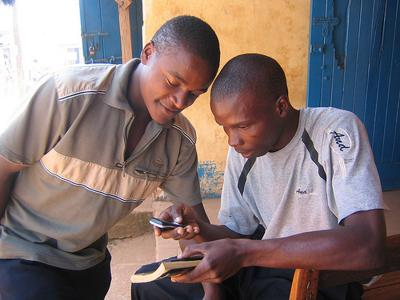person: (132, 54, 389, 299)
